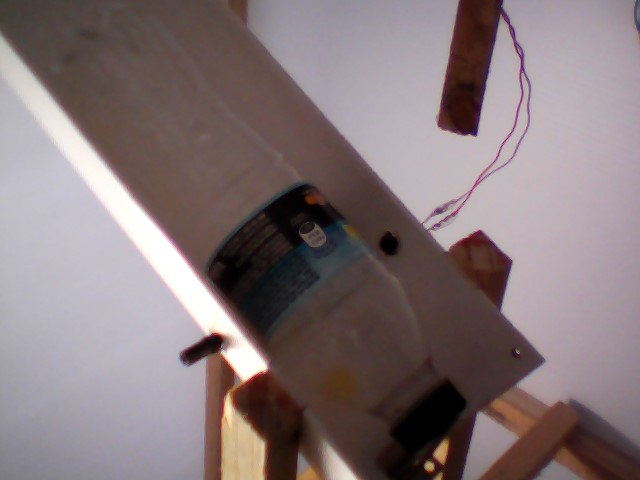plastico: (26, 1, 472, 459)
